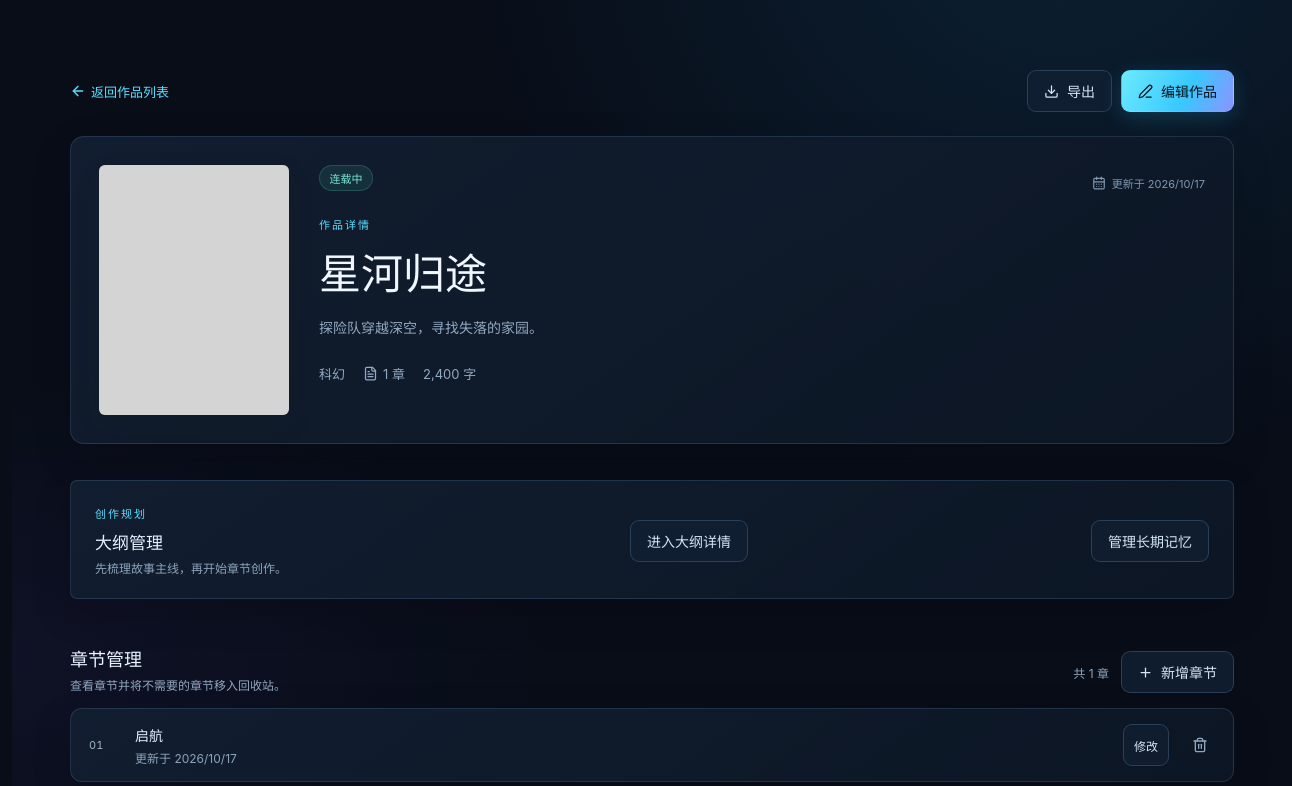
Test: 作品详情页 › 编辑模式可以保存作品信息
The image size is (1292, 786).
Click the button "编辑作品" at (1178, 91), box [1121, 70, 1234, 112]
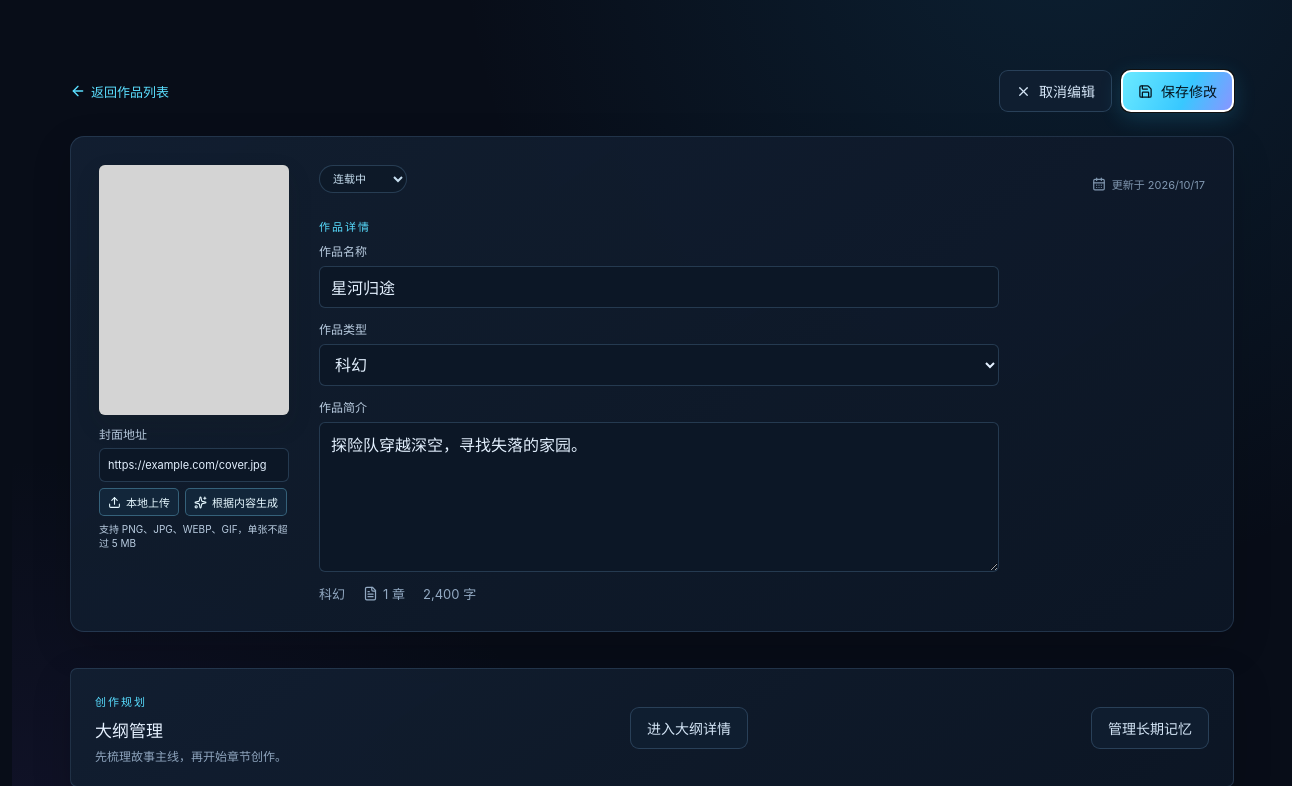
Replace the text in the field labelled "作品名称" with "星河新篇" at (659, 287), box [319, 266, 999, 308]
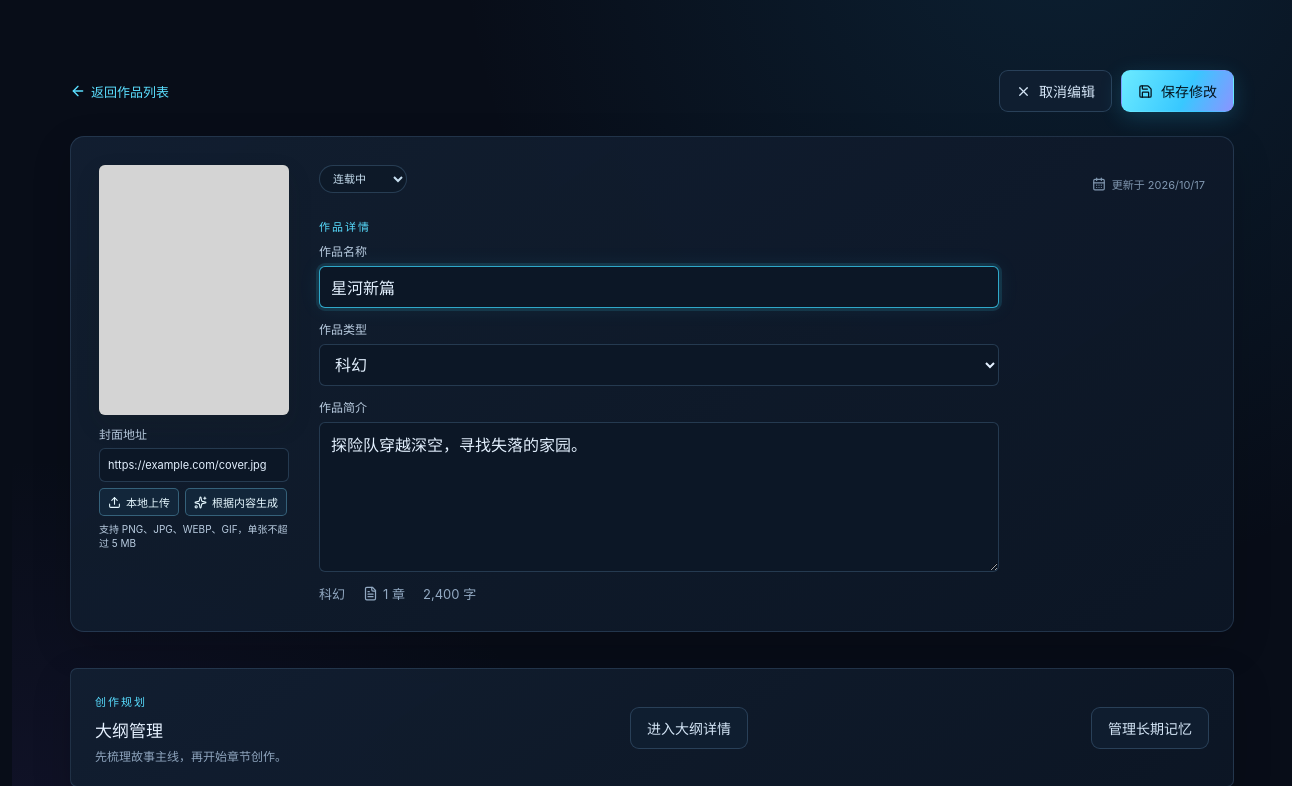
Select "悬疑" in the dropdown labelled "作品类型" at (659, 365), box [319, 344, 999, 386]
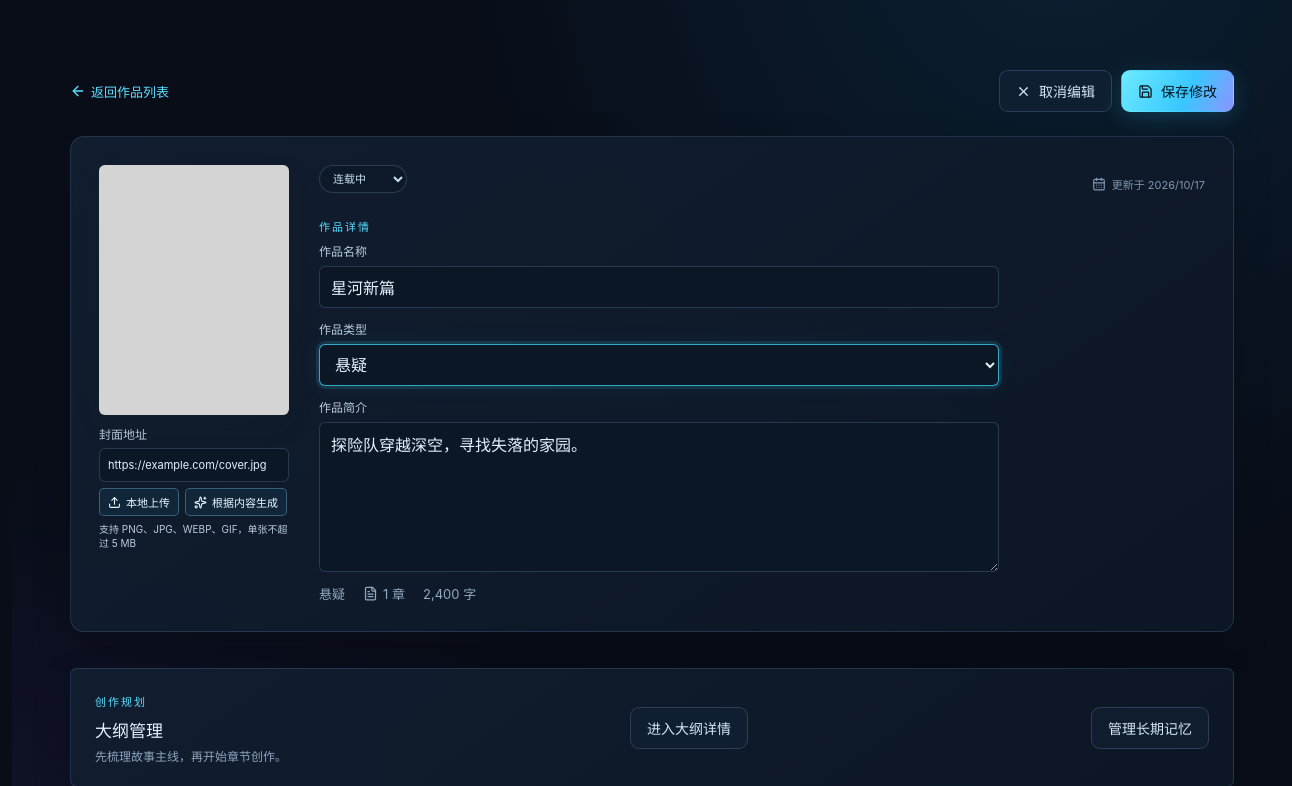
Select "完结" in the dropdown named "作品状态" at (363, 179), box [319, 165, 407, 193]
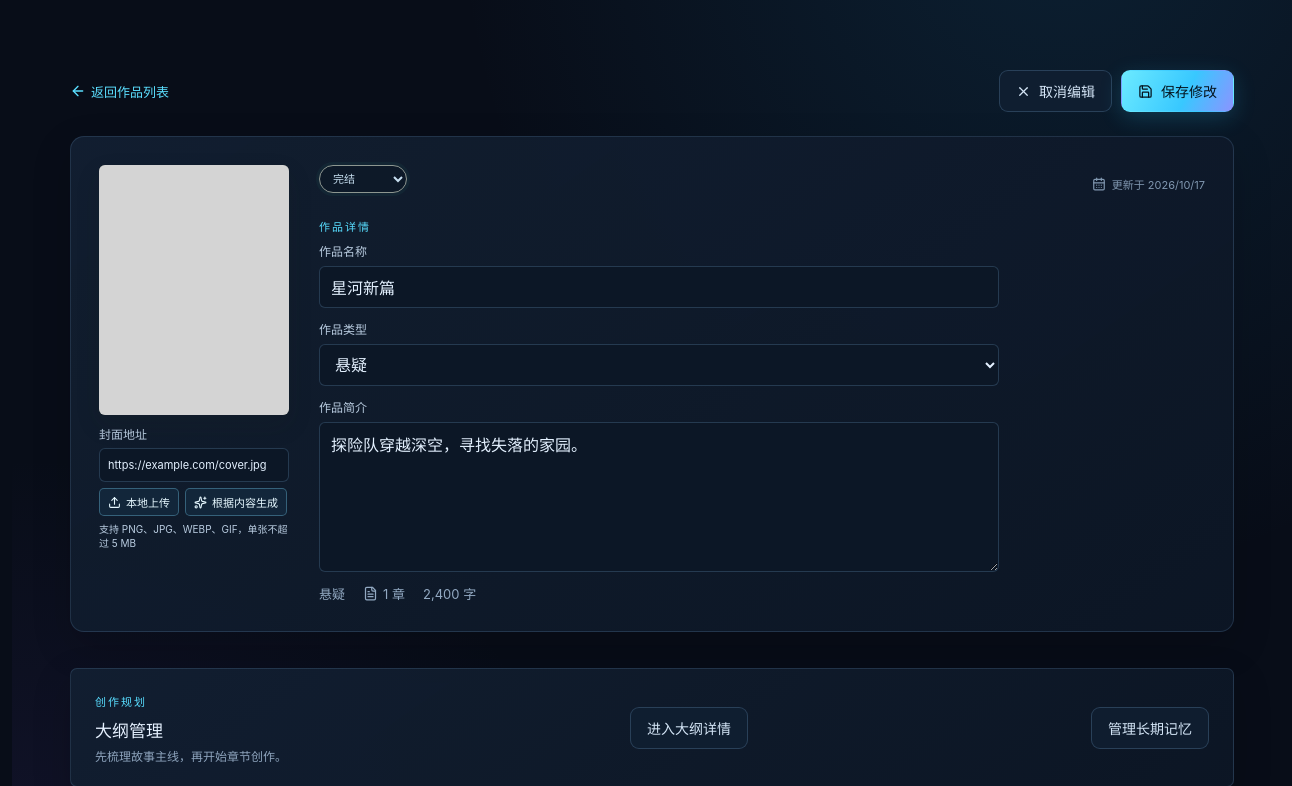
Replace the text in the text box labelled "作品简介" with "新的简介" at (659, 497), box [319, 422, 999, 572]
Type "https://example.com/new-cover.jpg" into the field labelled "封面地址" at (194, 465), box [99, 448, 289, 482]
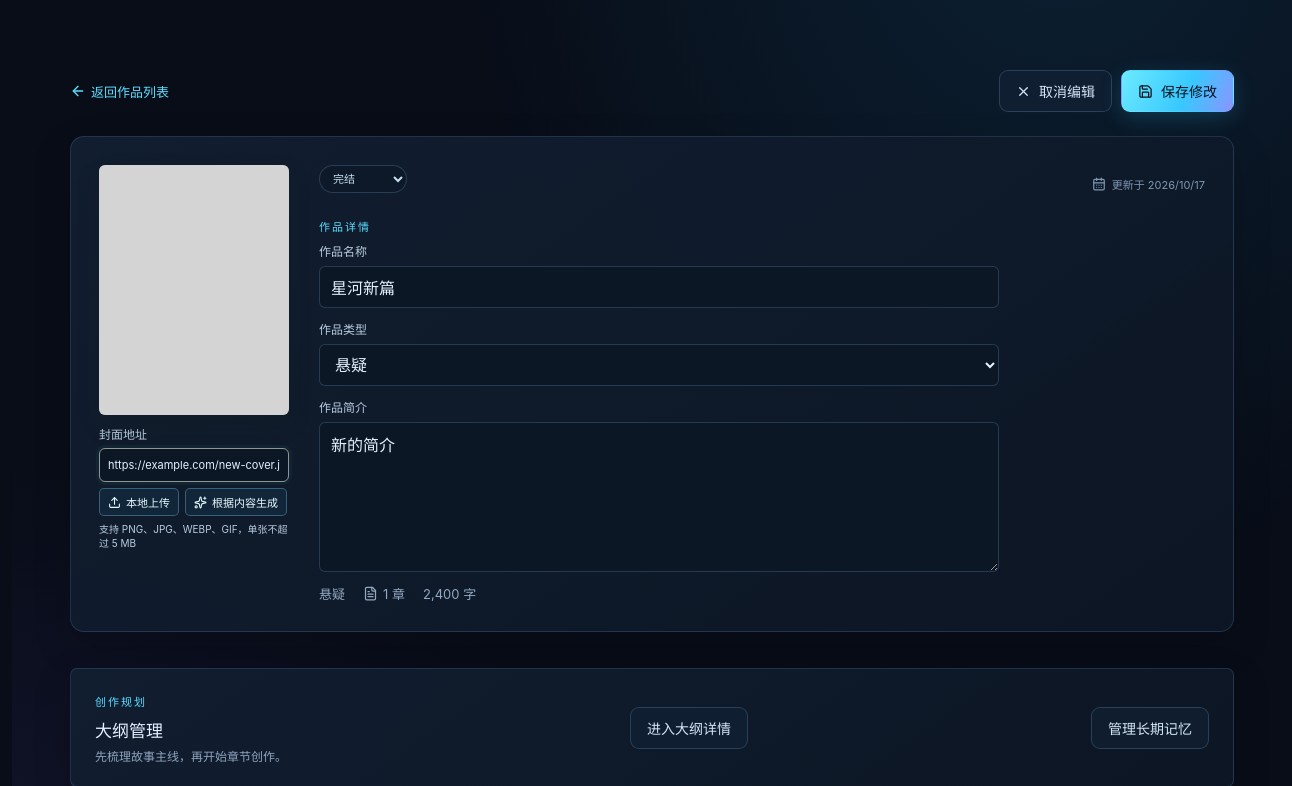
Click the button "保存修改" at (1178, 91), box [1121, 70, 1234, 112]
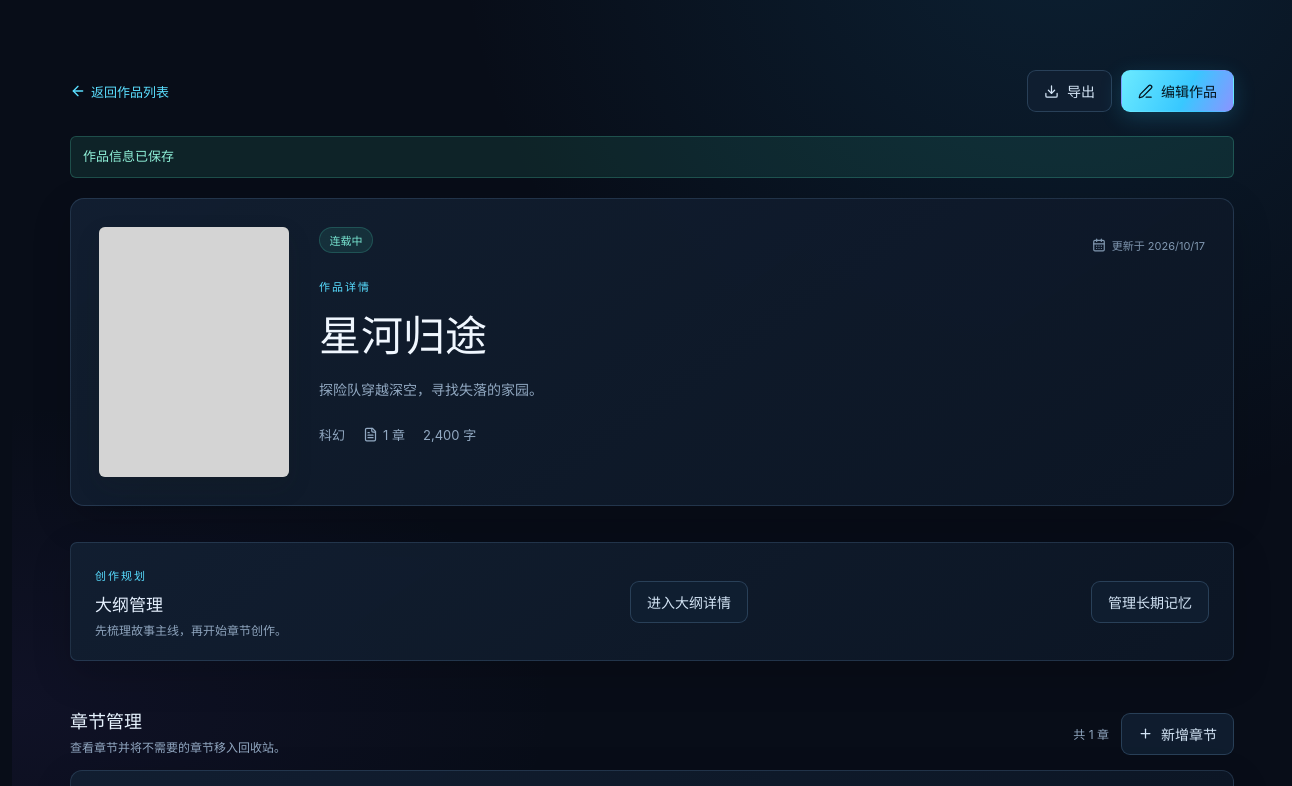
Expected: the text "作品信息已保存" is shown, [70, 136, 1234, 178]
